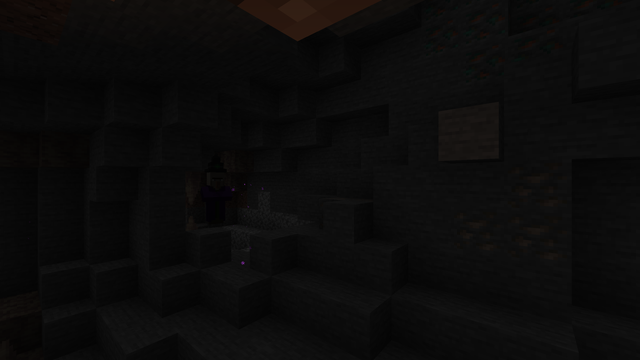sorcieres: (202, 170, 227, 229)
